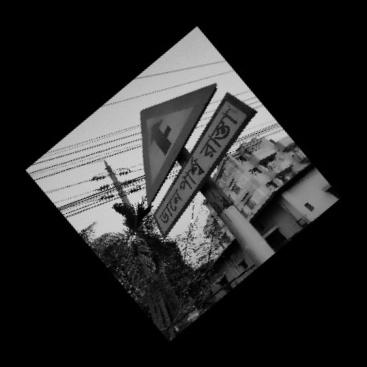Side-road-right: (138, 86, 255, 245)
